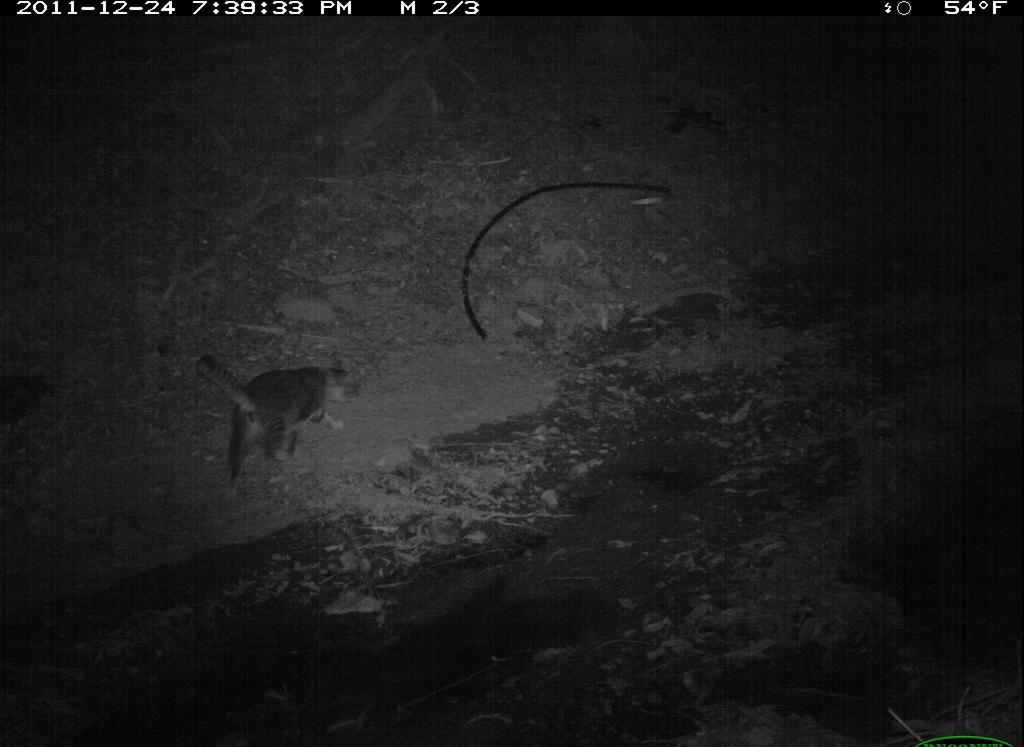cat: (194, 344, 369, 501)
